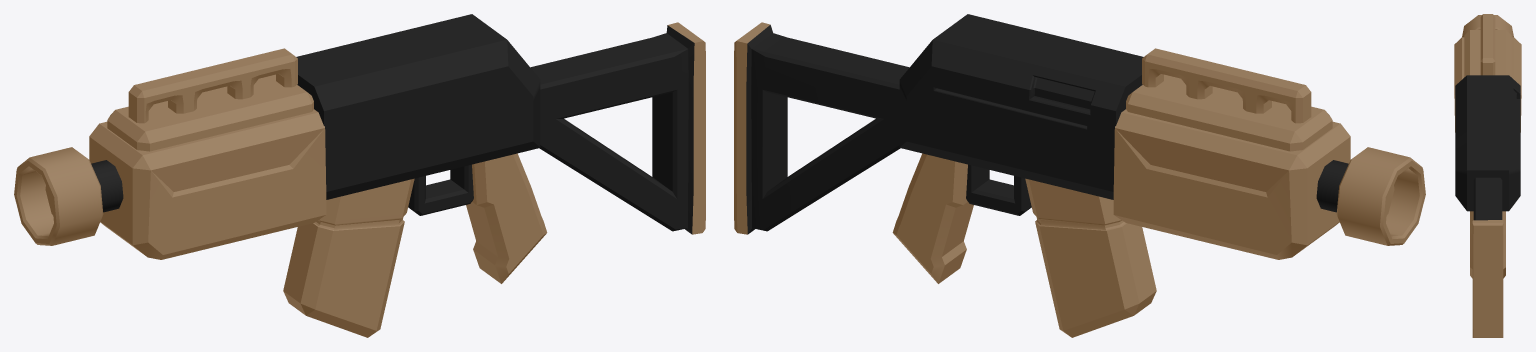
Rendered from Shotgun.fbx.
3 renders of one model, left to right at view 1: azimuth 30°, elevation 25°; view 2: azimuth 150°, elevation 25°; view 3: azimuth 270°, elevation 25°, orthographic. The views are drawn at different scales.
Visible parts, largest first — view 1: M_AutoShotgun; view 2: M_AutoShotgun; view 3: M_AutoShotgun.
Boxes of the visible parts, <box> form: M_AutoShotgun: <box>14,14,705,337</box>; M_AutoShotgun: <box>734,14,1425,337</box>; M_AutoShotgun: <box>1454,14,1521,337</box>.
Size of the model in its own units: 124 by 53.49 by 18.23.
